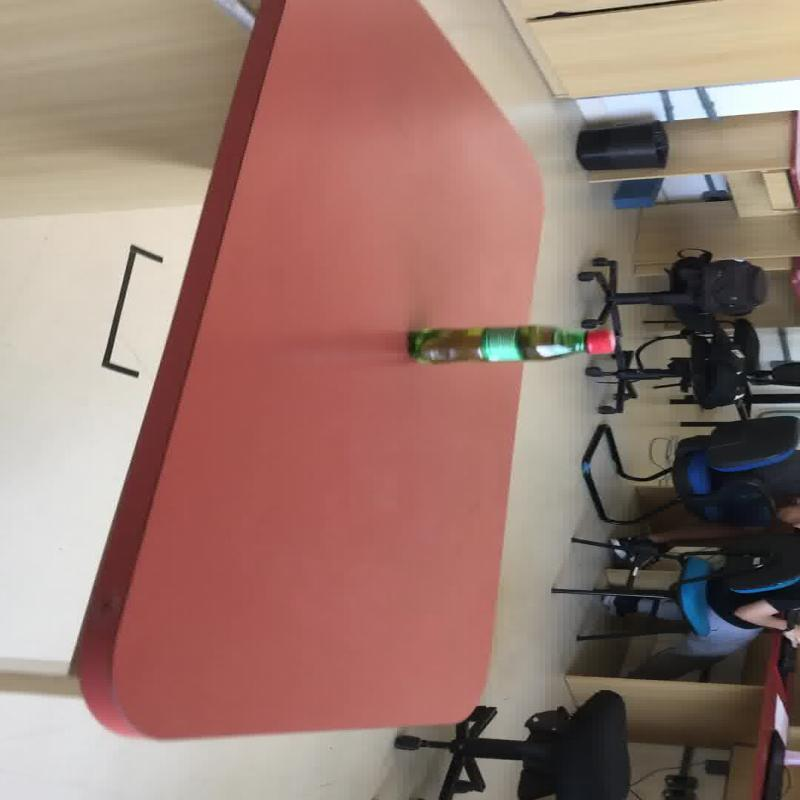guarana: (404, 324, 617, 364)
